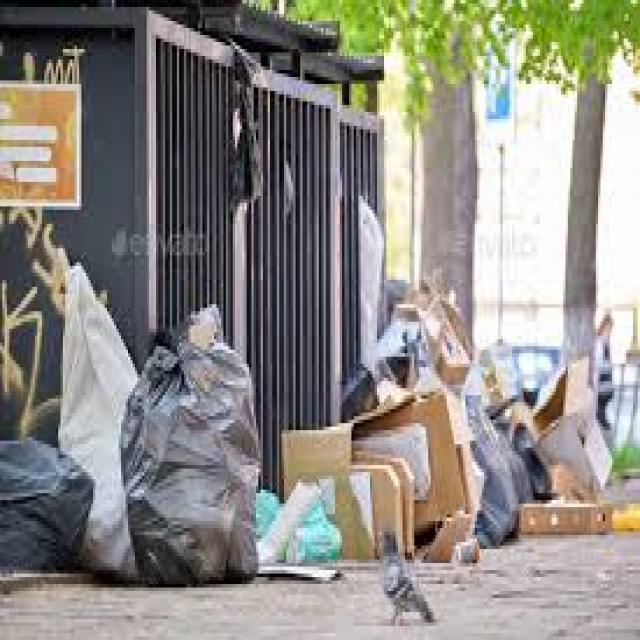Trashbag: (120, 341, 262, 588), (0, 431, 100, 576), (446, 398, 534, 544)
